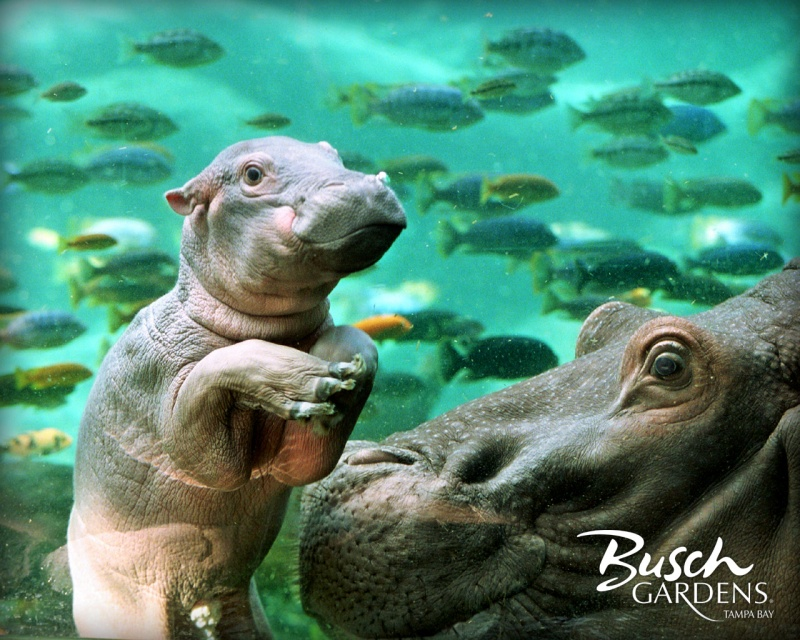hipopotamo: (302, 270, 800, 636), (73, 120, 417, 624)
